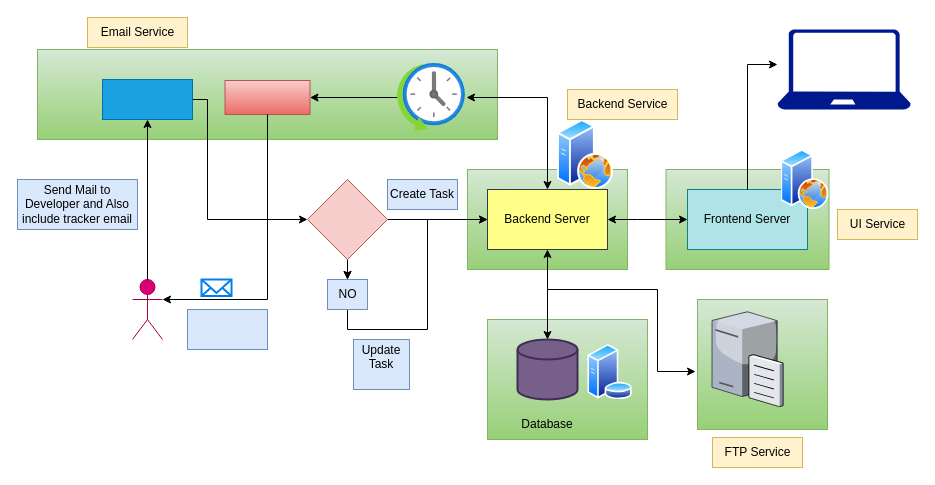
This 935x485 diagram has some shape labels left out. The centre of each missing label's shape, as x and y in pixels:
Frontend: (x=843, y=69)
Mail Listener: (x=147, y=99)
Mail Sender: (x=267, y=97)
New Mail?: (x=347, y=219)
Sending Reminders: (x=227, y=329)
